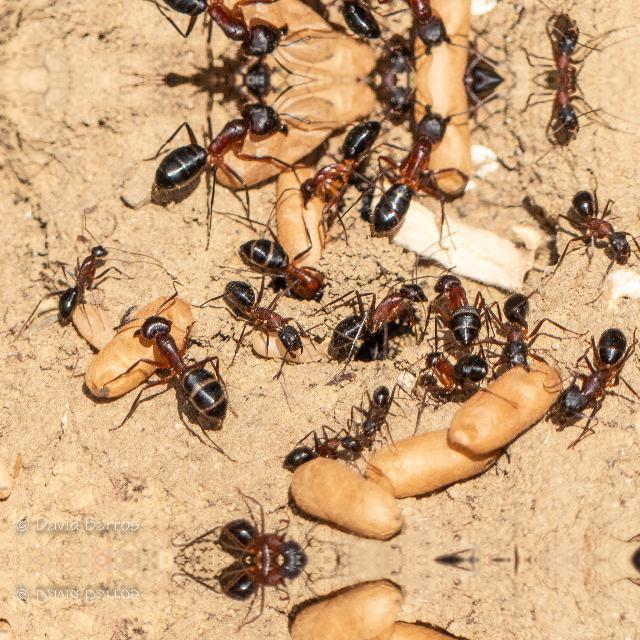Camponotus: (126, 300, 266, 430), (137, 98, 287, 195), (367, 117, 458, 243), (542, 324, 640, 432), (322, 272, 430, 358), (296, 108, 382, 215), (137, 0, 287, 60), (218, 278, 306, 369), (562, 173, 640, 274), (188, 508, 322, 560), (188, 560, 322, 612), (234, 232, 328, 306), (41, 238, 111, 322), (526, 80, 608, 148), (526, 12, 608, 80), (490, 290, 550, 382), (430, 262, 488, 346), (272, 424, 376, 470), (424, 344, 492, 412), (295, 0, 380, 50), (365, 0, 456, 42), (363, 378, 411, 444), (449, 80, 519, 124), (449, 36, 519, 80)
